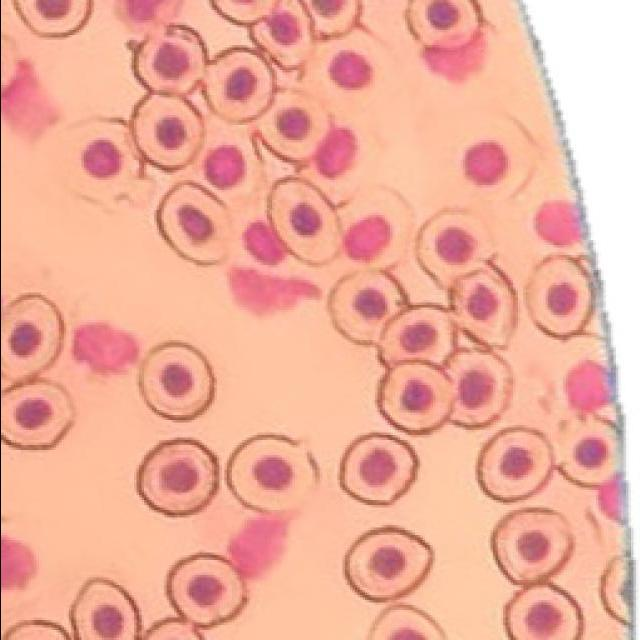RBC: (441, 114, 539, 206), (44, 120, 144, 210), (226, 435, 317, 512), (489, 508, 576, 587), (344, 528, 431, 601), (414, 210, 493, 289), (267, 179, 339, 265), (136, 440, 217, 516), (156, 182, 229, 265), (336, 188, 410, 268), (138, 342, 213, 420), (166, 554, 244, 628), (328, 271, 405, 345), (476, 429, 552, 501), (376, 362, 452, 434), (253, 90, 329, 162), (339, 434, 416, 505), (131, 94, 202, 170), (525, 256, 590, 338), (0, 295, 61, 381), (443, 350, 510, 428), (202, 49, 273, 122), (452, 265, 515, 346), (132, 26, 205, 95), (0, 381, 73, 449), (555, 416, 619, 488), (378, 306, 453, 366), (503, 585, 581, 640), (250, 0, 311, 69), (70, 579, 138, 640), (405, 0, 479, 46), (13, 0, 90, 38), (366, 605, 444, 640), (599, 558, 631, 626), (302, 0, 359, 36), (210, 0, 277, 25)
WBC: (1, 36, 56, 139), (227, 268, 319, 315), (227, 516, 286, 578), (420, 31, 484, 82), (73, 322, 136, 372), (563, 361, 612, 412), (312, 128, 355, 179), (533, 202, 582, 245), (242, 222, 285, 265), (0, 536, 33, 588), (205, 146, 243, 189), (328, 51, 370, 89), (597, 475, 624, 521)
